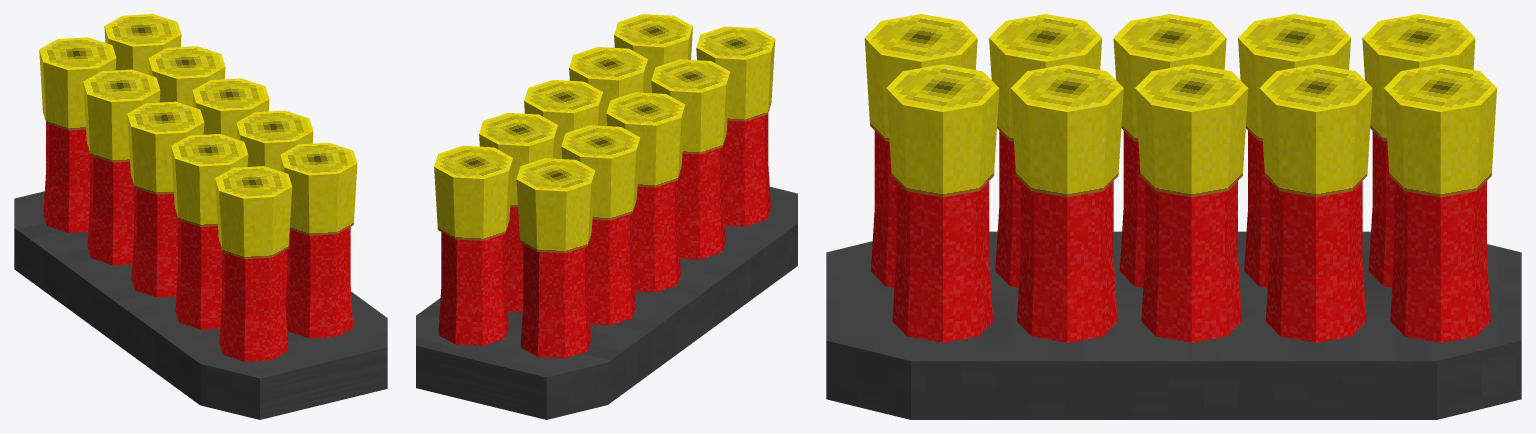
The model's file is shells.glb.
3 renders of one model, left to right at view 1: azimuth 30°, elevation 25°; view 2: azimuth 150°, elevation 25°; view 3: azimuth 270°, elevation 25°, orthographic. The views are drawn at different scales.
Parts seen in each view (by area): view 1: shells; view 2: shells; view 3: shells.
Boxes of the visible parts, x1,y1,x2,y2 form: shells: [14, 14, 387, 419]; shells: [416, 14, 797, 419]; shells: [826, 14, 1521, 419].
Bounding box in the file's own units: 2.33 × 2.45 × 5.29.
Materials: 1 (1 with a texture image).
